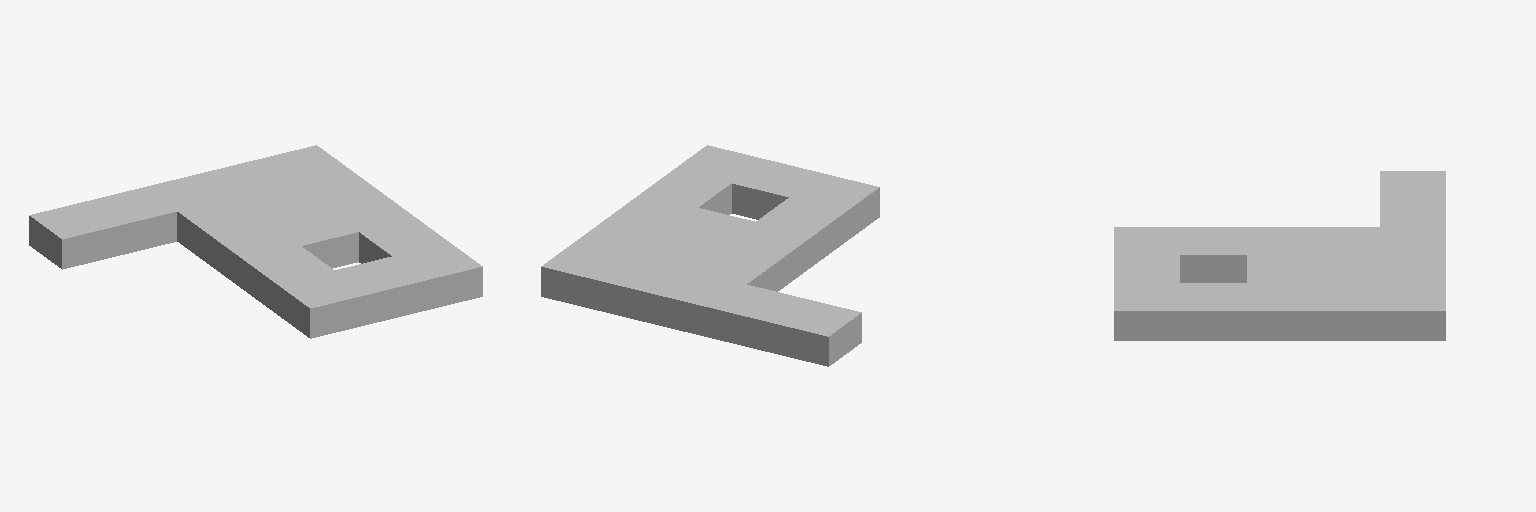
Rendered from 70s_block.obj.
The picture shows the model from 3 angles: view 1: azimuth 30°, elevation 25°; view 2: azimuth 150°, elevation 25°; view 3: azimuth 270°, elevation 25°; orthographic projection.
Visible parts, largest first — view 1: block.2.0_block.4899, block.0.4_block.4897, block.4.0_block.4909, block.1.4_block.4898, block.3.0_block.4904, block.3.2_block.4906, block.2.3_block.4902, block.2.1_block.4900, block.2.2_block.4901, block.4.1_block.4910, block.4.3_block.4912, block.2.4_block.4903 (+4 smaller); view 2: block.0.4_block.4897, block.4.4_block.4913, block.2.4_block.4903, block.1.4_block.4898, block.3.4_block.4908, block.3.0_block.4904, block.2.1_block.4900, block.2.0_block.4899, block.2.2_block.4901, block.4.1_block.4910, block.2.3_block.4902, block.3.2_block.4906 (+4 smaller); view 3: block.4.1_block.4910, block.4.3_block.4912, block.4.0_block.4909, block.4.2_block.4911, block.4.4_block.4913, block.2.1_block.4900, block.2.3_block.4902, block.3.3_block.4907, block.0.4_block.4897, block.1.4_block.4898, block.2.0_block.4899, block.2.2_block.4901 (+4 smaller).
Part boxes in pixels (left/top/right/bottom): block.2.0_block.4899: left=277, top=270, right=367, bottom=338; block.0.4_block.4897: left=29, top=201, right=119, bottom=269; block.4.0_block.4909: left=392, top=242, right=482, bottom=310; block.1.4_block.4898: left=87, top=187, right=176, bottom=254; block.3.0_block.4904: left=335, top=257, right=424, bottom=324; block.3.2_block.4906: left=269, top=208, right=358, bottom=268; block.2.3_block.4902: left=177, top=198, right=267, bottom=265; block.2.1_block.4900: left=244, top=246, right=333, bottom=313; block.2.2_block.4901: left=211, top=222, right=300, bottom=289; block.4.1_block.4910: left=359, top=218, right=448, bottom=263; block.4.3_block.4912: left=293, top=169, right=382, bottom=207; block.2.4_block.4903: left=145, top=173, right=234, bottom=210; block.0.4_block.4897: left=771, top=298, right=861, bottom=366; block.4.4_block.4913: left=541, top=242, right=631, bottom=310; block.2.4_block.4903: left=656, top=270, right=746, bottom=338; block.1.4_block.4898: left=714, top=285, right=803, bottom=352; block.3.4_block.4908: left=599, top=257, right=688, bottom=324; block.3.0_block.4904: left=732, top=159, right=821, bottom=219; block.2.1_block.4900: left=756, top=198, right=846, bottom=265; block.2.0_block.4899: left=789, top=173, right=879, bottom=240; block.2.2_block.4901: left=723, top=222, right=812, bottom=289; block.4.1_block.4910: left=641, top=169, right=731, bottom=214; block.2.3_block.4902: left=690, top=246, right=779, bottom=291; block.3.2_block.4906: left=666, top=208, right=754, bottom=245; block.4.1_block.4910: left=1180, top=283, right=1246, bottom=340; block.4.3_block.4912: left=1313, top=283, right=1379, bottom=340; block.4.0_block.4909: left=1114, top=283, right=1179, bottom=340; block.4.2_block.4911: left=1247, top=283, right=1312, bottom=340; block.4.4_block.4913: left=1380, top=283, right=1445, bottom=340; block.2.1_block.4900: left=1180, top=227, right=1246, bottom=282; block.2.3_block.4902: left=1313, top=227, right=1379, bottom=254; block.3.3_block.4907: left=1313, top=255, right=1379, bottom=282; block.0.4_block.4897: left=1380, top=171, right=1445, bottom=198; block.1.4_block.4898: left=1380, top=199, right=1445, bottom=226; block.2.0_block.4899: left=1114, top=227, right=1179, bottom=254; block.2.2_block.4901: left=1247, top=227, right=1312, bottom=254.
Size of the model in its own units: 10 by 1 by 10.